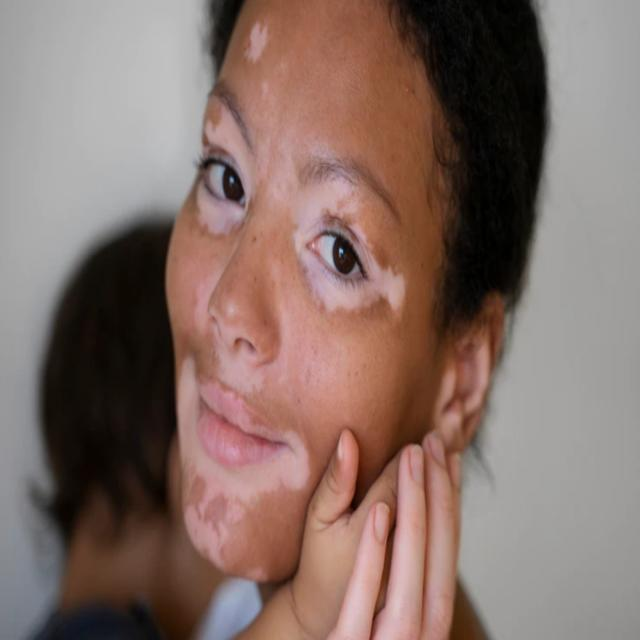vitiligo: (172, 335, 314, 569), (288, 161, 411, 336), (174, 273, 278, 379), (188, 100, 266, 240), (233, 14, 287, 82)
